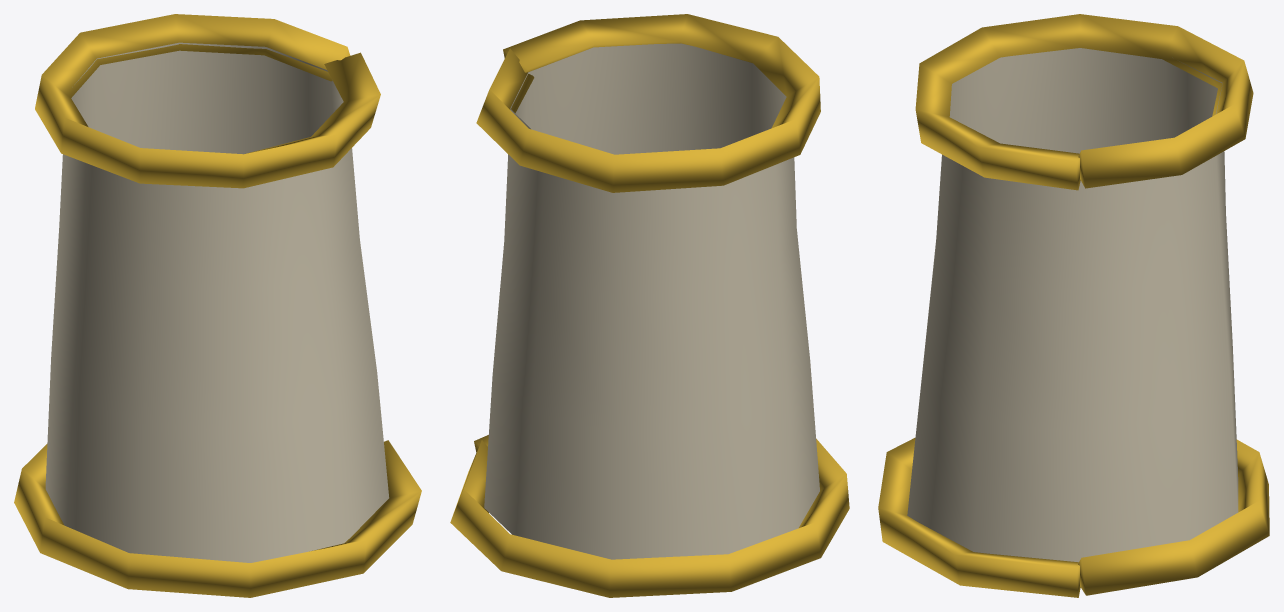
Rendered from radiant_armor_bracer.R.glb.
3 renders of one model, left to right at view 1: azimuth 30°, elevation 25°; view 2: azimuth 150°, elevation 25°; view 3: azimuth 270°, elevation 25°, orthographic.
Parts seen in each view (by area): view 1: radiant_armor_bracer.R; view 2: radiant_armor_bracer.R; view 3: radiant_armor_bracer.R.
Part boxes in pixels (<box>): radiant_armor_bracer.R: <box>14,14,421,597</box>; radiant_armor_bracer.R: <box>450,14,849,597</box>; radiant_armor_bracer.R: <box>878,14,1269,597</box>.
Size of the model in its own units: 0.1435 by 0.1719 by 0.1408.
